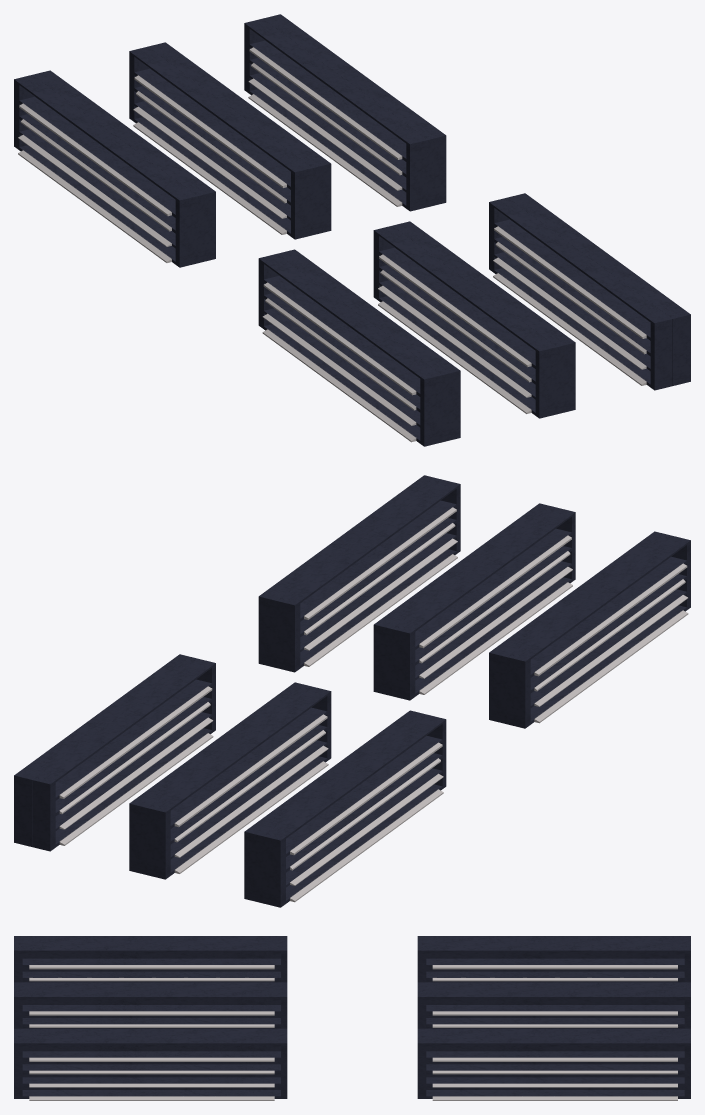
File: mainShelves_EMBED.fbx
The picture shows the model from 3 angles, top to bottom: view 1: azimuth 30°, elevation 25°; view 2: azimuth 150°, elevation 25°; view 3: azimuth 270°, elevation 25°; orthographic projection. The views are drawn at different scales.
Parts seen in each view (by area): view 1: Shelf.007, Shelf.003, Shelf.016, Shelf.001, Shelf.018, Shelf.022, Shelf.017, Shelf.006, Shelf.002, Shelf.015, Shelf, Shelf.021; view 2: Shelf.001, Shelf.022, Shelf.018, Shelf.003, Shelf.016, Shelf.007, Shelf.002, Shelf.021, Shelf, Shelf.017, Shelf.015, Shelf.006; view 3: Shelf, Shelf.015, Shelf.002, Shelf.006, Shelf.017, Shelf.021, Shelf.003, Shelf.018, Shelf.001, Shelf.007, Shelf.016, Shelf.022.
Part boxes in pixels (x1,y1,x2,y2): Shelf.007: (258, 254, 442, 446); Shelf.003: (373, 226, 557, 418); Shelf.016: (244, 18, 428, 211); Shelf.001: (489, 197, 672, 390); Shelf.018: (129, 47, 312, 239); Shelf.022: (14, 75, 197, 267); Shelf.017: (147, 42, 331, 234); Shelf.006: (277, 249, 460, 442); Shelf.002: (392, 221, 575, 413); Shelf.015: (263, 14, 446, 206); Shelf: (507, 193, 690, 385); Shelf.021: (32, 70, 215, 263); Shelf.001: (276, 479, 460, 672); Shelf.022: (262, 715, 446, 907); Shelf.018: (147, 687, 331, 879); Shelf.003: (392, 508, 575, 700); Shelf.016: (32, 658, 215, 851); Shelf.007: (507, 536, 690, 728); Shelf.002: (373, 503, 557, 695); Shelf.021: (244, 710, 427, 903); Shelf: (258, 475, 441, 667); Shelf.017: (129, 682, 312, 874); Shelf.015: (14, 654, 197, 846); Shelf.006: (489, 531, 672, 724); Shelf: (14, 1036, 287, 1100); Shelf.015: (417, 1036, 690, 1100); Shelf.002: (14, 989, 287, 1028); Shelf.006: (14, 943, 287, 982); Shelf.017: (417, 989, 690, 1028); Shelf.021: (417, 943, 690, 982); Shelf.003: (14, 982, 287, 989); Shelf.018: (417, 982, 690, 989); Shelf.001: (14, 1028, 287, 1035); Shelf.007: (14, 936, 287, 943); Shelf.016: (417, 1028, 690, 1035); Shelf.022: (417, 936, 690, 943).
Size of the model in its own units: 4567 by 1059 by 11721.
1 material, 1 textured.
